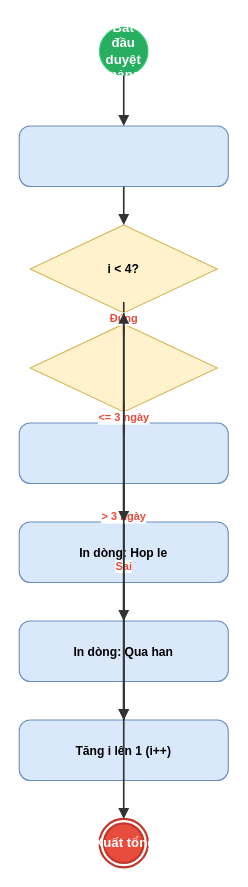
Some shapes in this 248 by 887 pixel diagram are drawn without their labels. The shapes that lost their labels are listed below. From the top down, each one's box as (x1, y1, x2, y2) in pixels, then its label:
(18, 125, 228, 186): Khởi tạo i = 0, total_revenue = 0
(29, 323, 217, 412): user_list[i].days_overdue <= 3?
(18, 422, 228, 483): Cộng dồn monthly_fee vào total_revenue
